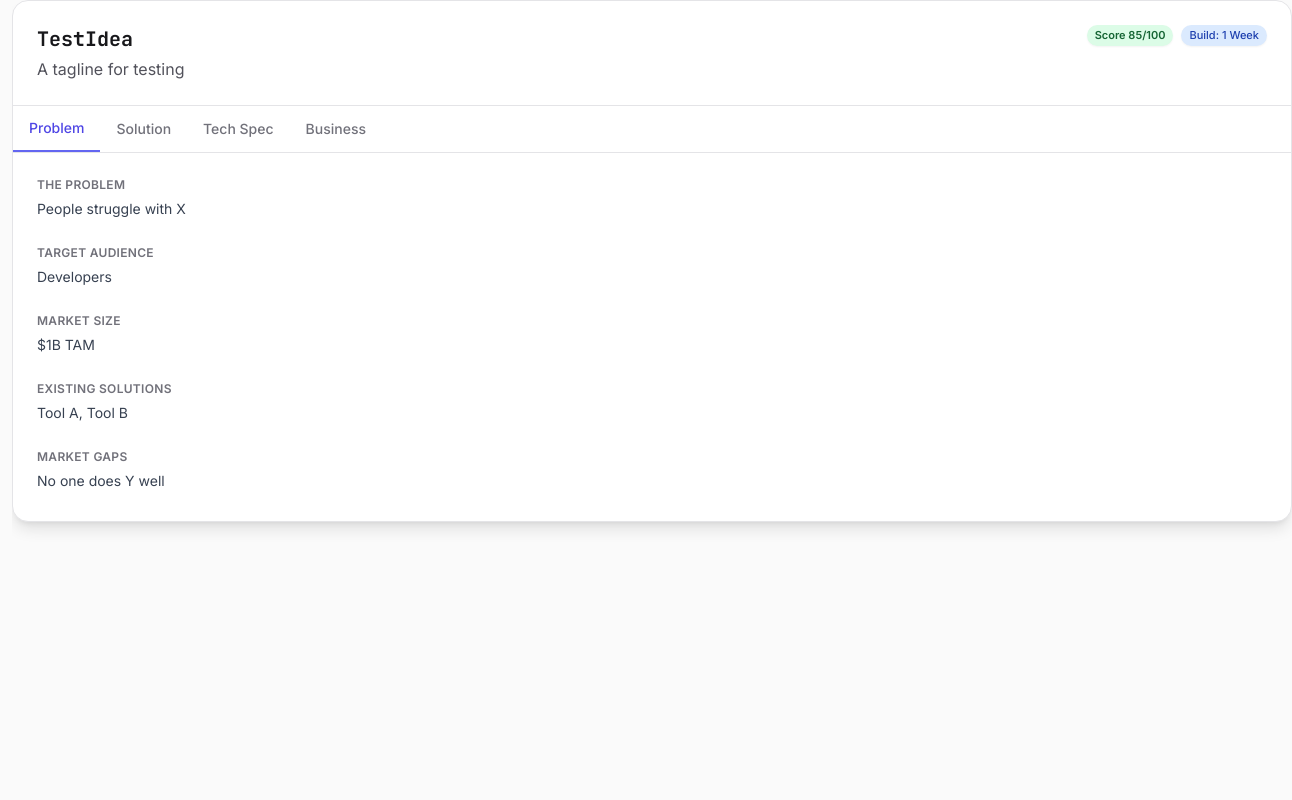
Scenario: IdeaBriefCard › switches tabs on click and shows correct content
Expected: the text "People struggle with X" is shown, x1=37 y1=200 x2=186 y2=217
Note: Click solution tab
Click the tab "Solution": (144, 129) x1=100 y1=106 x2=187 y2=152
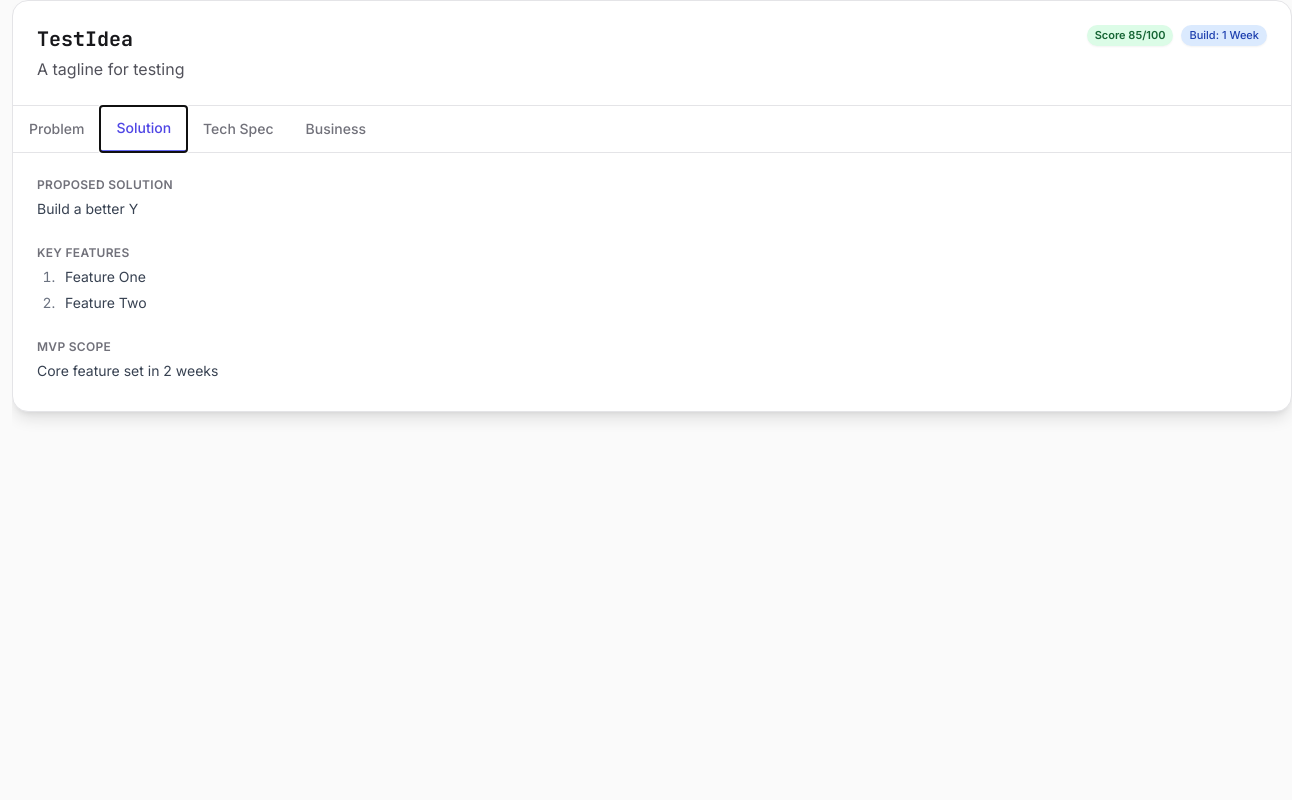
Expected: the text "Build a better Y" is shown, x1=37 y1=200 x2=138 y2=217
Note: Click tech spec tab
Click the tab "Tech Spec": (238, 129) x1=187 y1=106 x2=290 y2=152
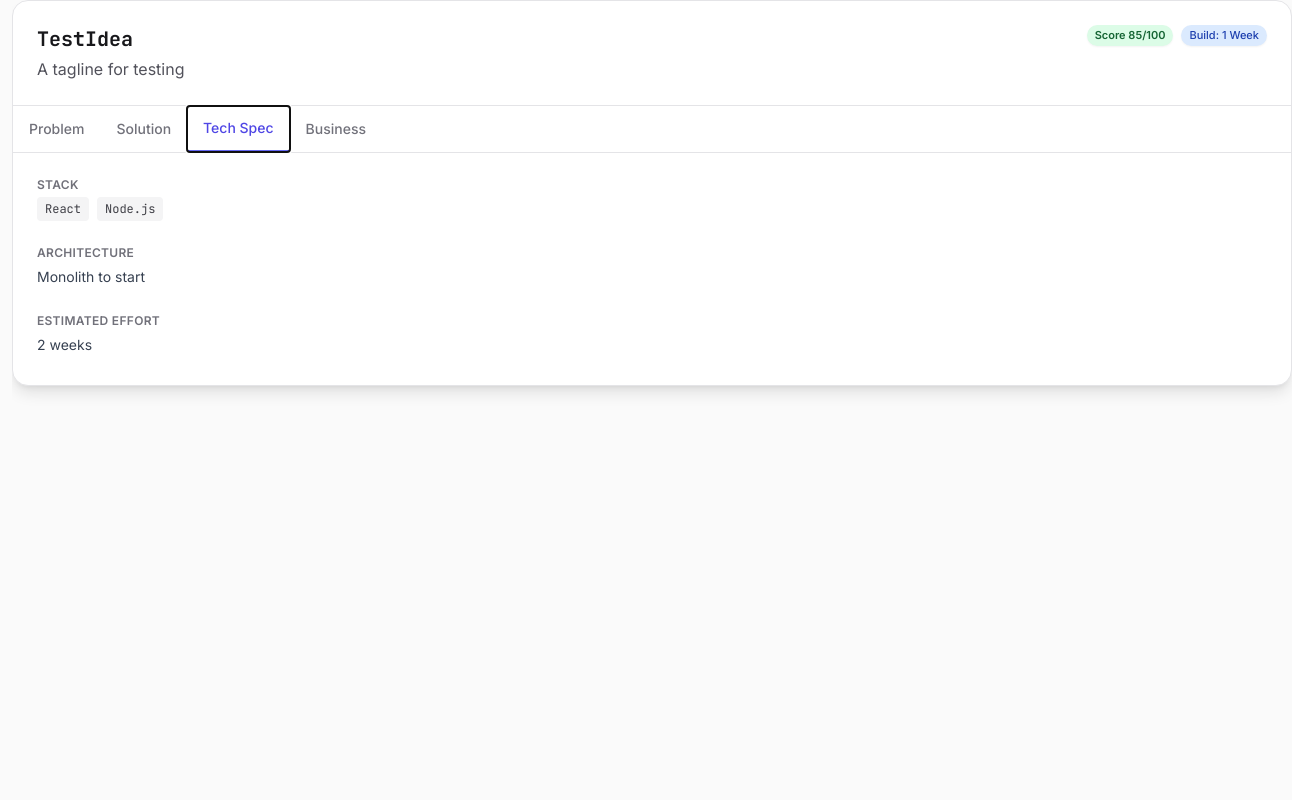
Expected: the text "Monolith to start" is shown, x1=37 y1=268 x2=145 y2=285
Note: Click business tab
Click the tab "Business": (336, 129) x1=290 y1=106 x2=382 y2=152
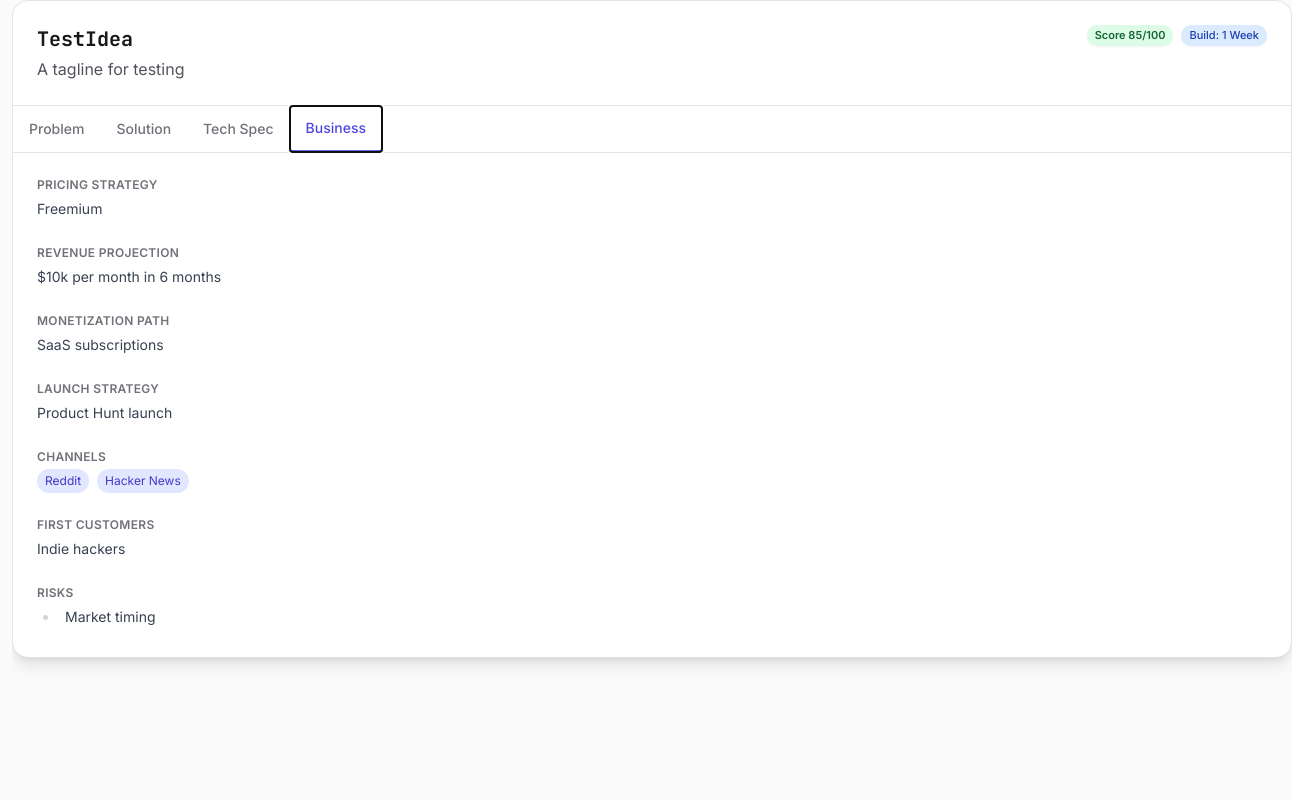
Expected: the text "Freemium" is shown, x1=37 y1=200 x2=102 y2=217
